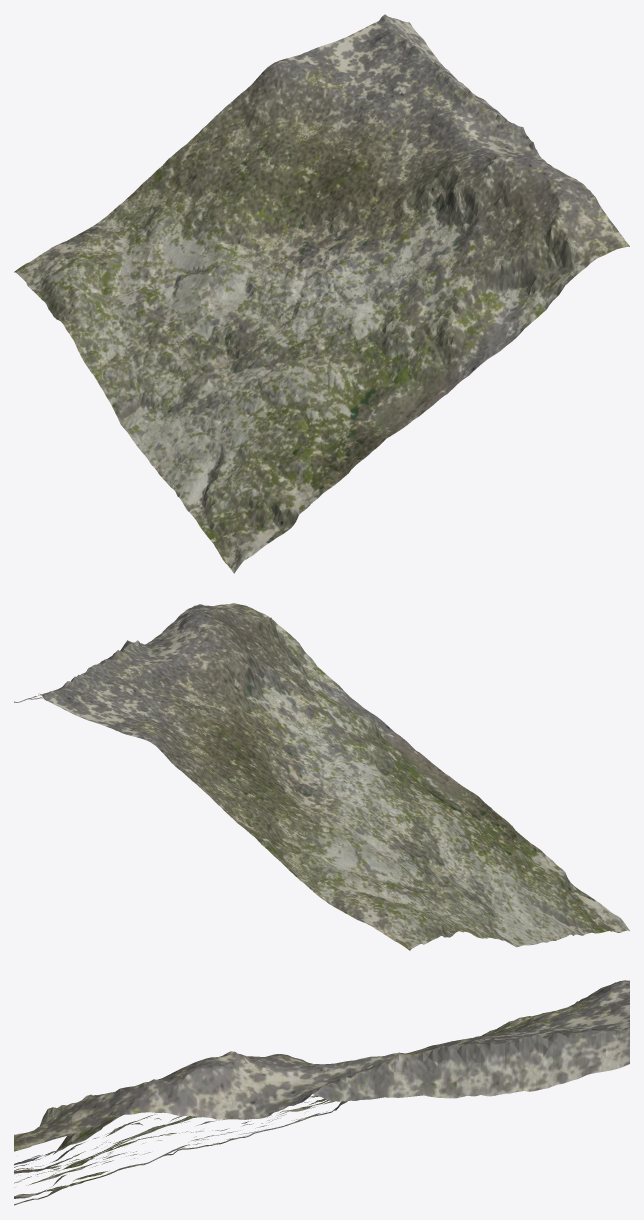
The picture shows the model from 3 angles, top to bottom: view 1: azimuth 30°, elevation 25°; view 2: azimuth 150°, elevation 25°; view 3: azimuth 270°, elevation 25°; orthographic projection. The views are drawn at different scales.
Bounding box in the file's own units: 500 × 373 × 481.
Materials: 1 (1 with a texture image).
